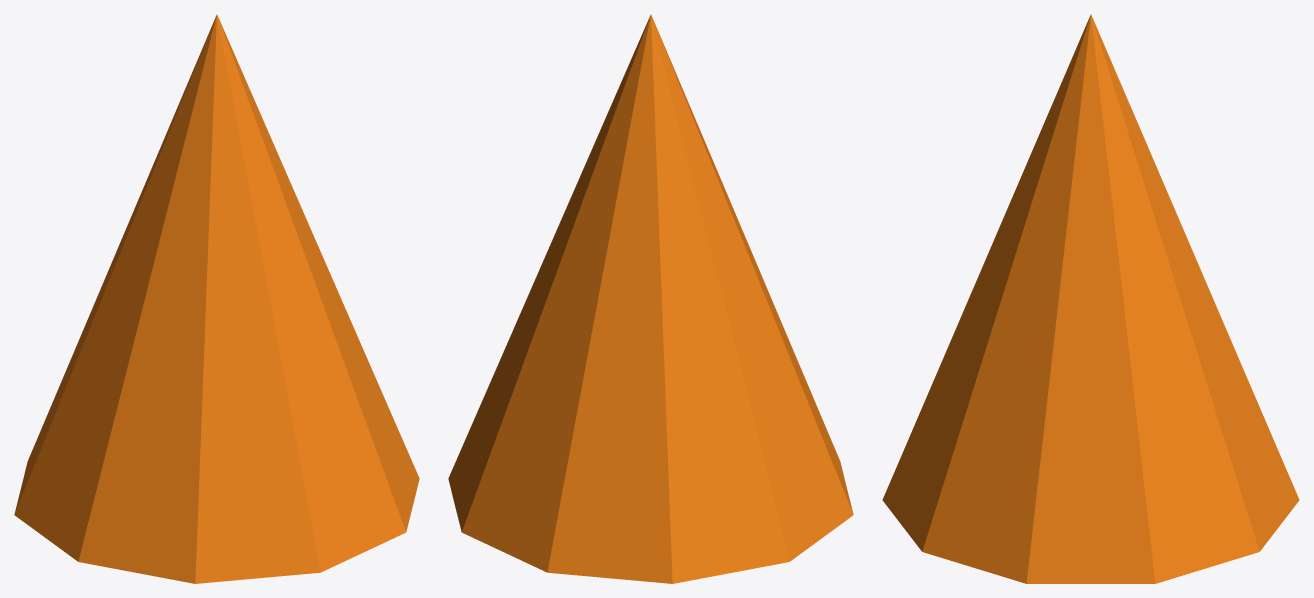
The model's file is Skate_Cone.fbx.
3 views of the same model, side by side, from view 1: azimuth 30°, elevation 25°; view 2: azimuth 150°, elevation 25°; view 3: azimuth 270°, elevation 25° (orthographic).
Visible parts, largest first — view 1: Cone; view 2: Cone; view 3: Cone.
Part boxes in pixels (x1=…): Cone: x1=14, y1=14, x2=419, y2=583; Cone: x1=448, y1=14, x2=853, y2=583; Cone: x1=882, y1=14, x2=1299, y2=583.
Bounding box in the file's own units: 0.2663 × 0.36 × 0.28.
